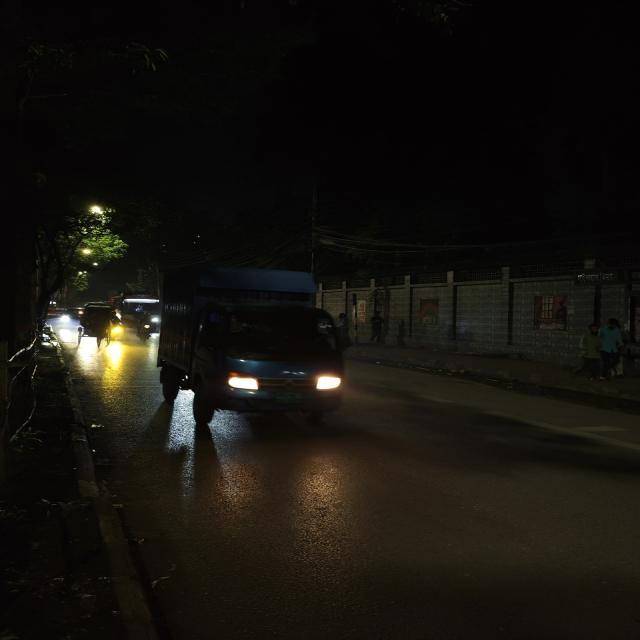bus: (114, 292, 162, 337)
motorcycle: (133, 315, 153, 343)
pedestrian: (597, 315, 627, 379), (574, 322, 607, 380), (364, 309, 390, 346)
pickup_van: (74, 303, 122, 345)
rickshaw: (75, 303, 122, 345)
truck: (162, 261, 355, 421)
